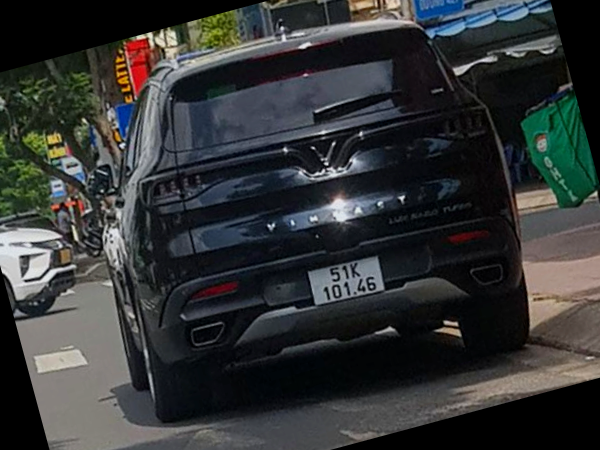lisence: (307, 256, 385, 306)
